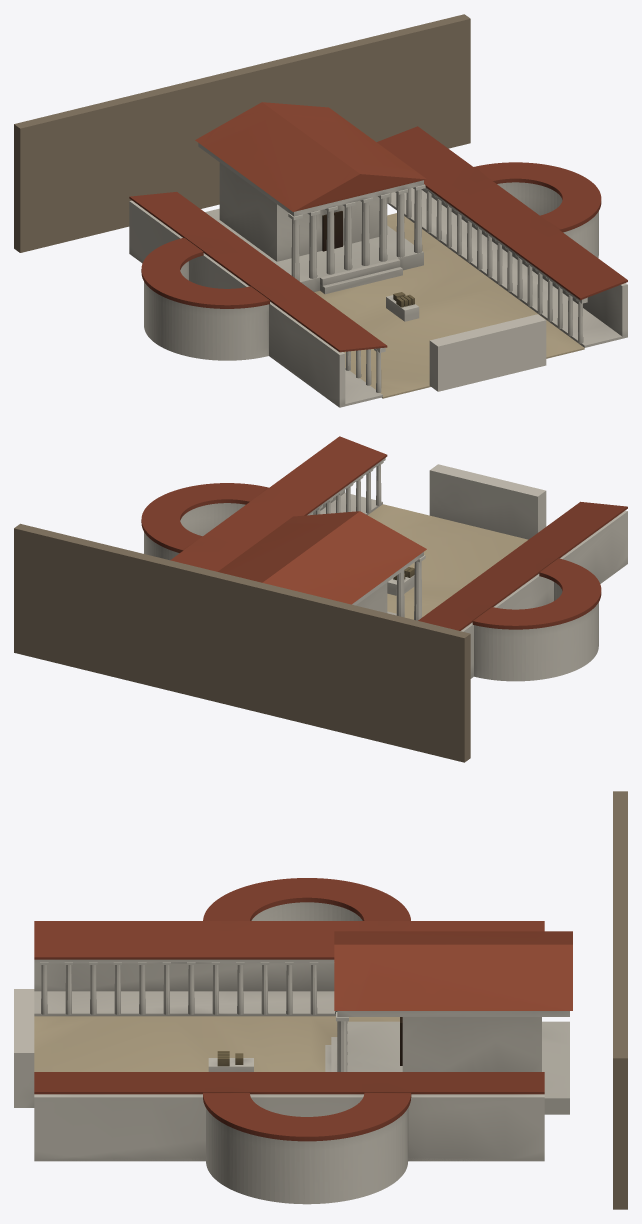
File: forum-of-augustus.glb
The picture shows the model from 3 angles, top to bottom: view 1: azimuth 30°, elevation 25°; view 2: azimuth 150°, elevation 25°; view 3: azimuth 270°, elevation 25°; orthographic projection. The views are drawn at different scales.
Parts seen in each view (by area): view 1: p1_stage1, p2_stage2, p0_plaza; view 2: p1_stage1, p2_stage2, p0_plaza; view 3: p1_stage1, p2_stage2, p0_plaza.
Boxes of the visible parts, x1,y1,x2,y2 form: p1_stage1: [14, 14, 627, 407]; p2_stage2: [129, 102, 627, 352]; p0_plaza: [314, 213, 584, 398]; p1_stage1: [14, 458, 627, 762]; p2_stage2: [141, 436, 627, 630]; p0_plaza: [368, 504, 527, 619]; p1_stage1: [14, 791, 627, 1209]; p2_stage2: [34, 878, 572, 1141]; p0_plaza: [34, 1016, 399, 1071].
Bounding box in the file's own units: 125 × 33.4 × 121.
